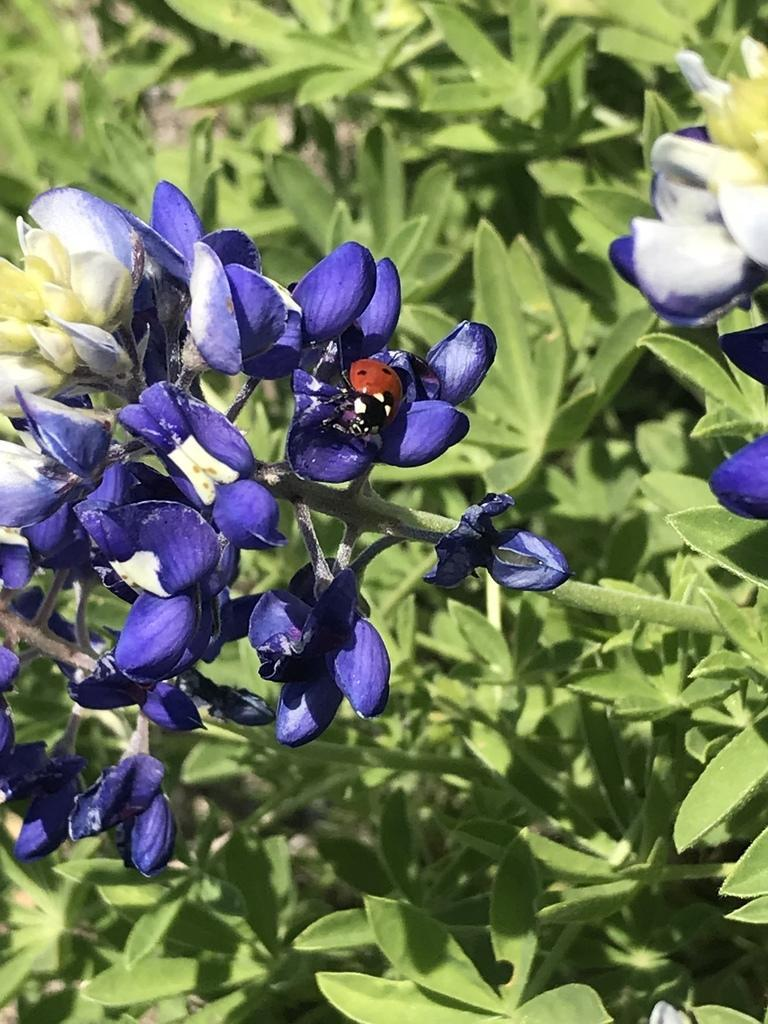ladybug: (331, 351, 414, 444)
